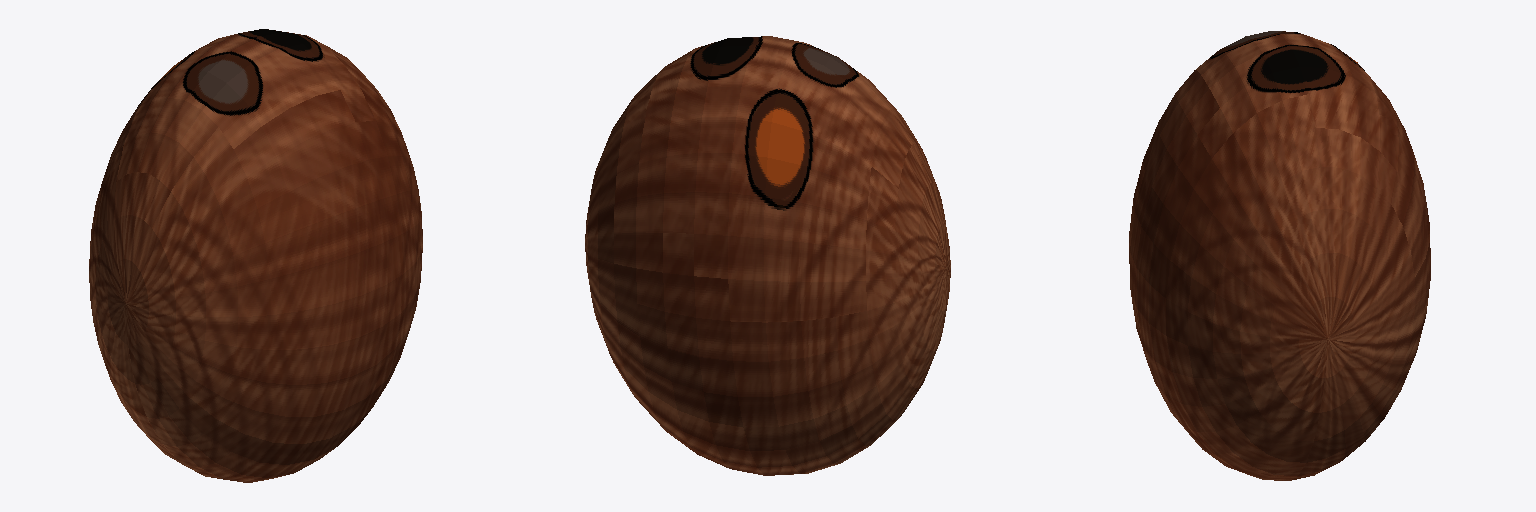
3 renders of one model, left to right at view 1: azimuth 30°, elevation 25°; view 2: azimuth 150°, elevation 25°; view 3: azimuth 270°, elevation 25°, orthographic.
Visible parts, largest first — view 1: Esfera; view 2: Esfera; view 3: Esfera.
Boxes of the visible parts, box(x1,y1,x2,y2) form: Esfera: box(89, 29, 422, 482); Esfera: box(585, 36, 950, 475); Esfera: box(1129, 31, 1430, 480).
Bounding box in the file's own units: 0.353 × 0.4548 × 0.292.
Materials: 1 (1 with a texture image).